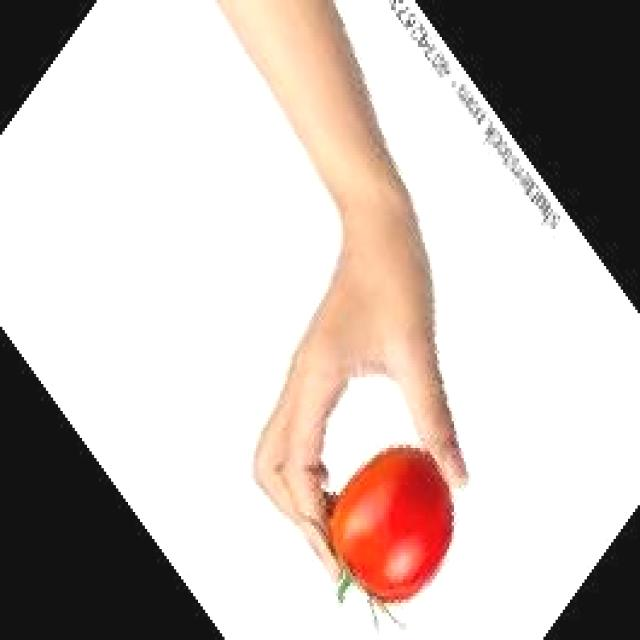tomato: (318, 437, 460, 621)
